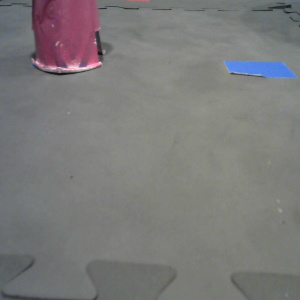middle: (29, 1, 106, 74)
